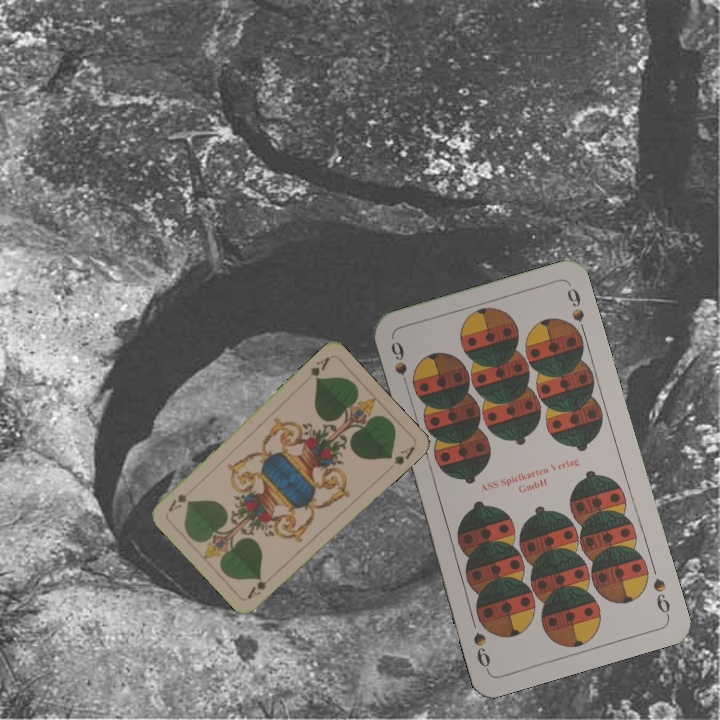GA: (306, 353, 333, 383), (243, 577, 269, 601)
S9: (386, 337, 413, 394), (648, 574, 673, 619)
